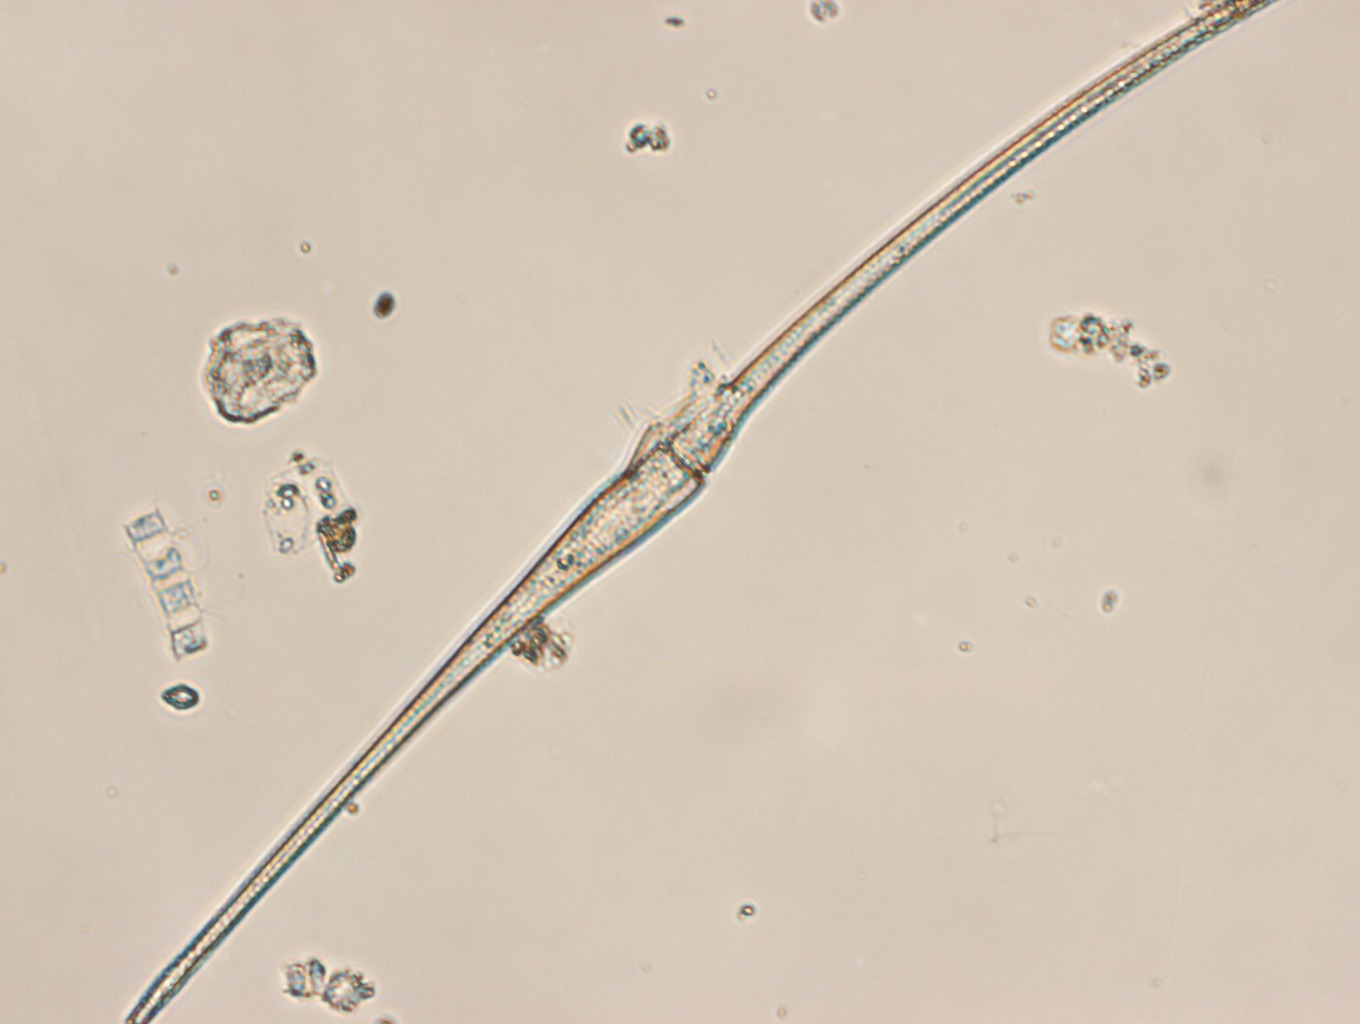ceratium fusus: (120, 1, 1277, 1024)
chaetoceros: (120, 495, 233, 663)
